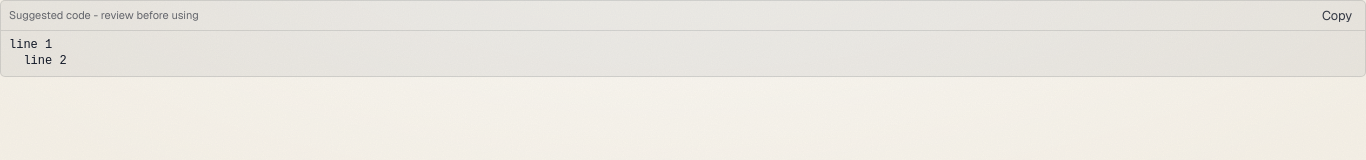
Test: AssistantMarkdown › copies the code exactly and says Copied
The width and height of the screenshot is (1366, 160).
Click the button with aria-label "Copy code" at [1337, 15], box [1317, 4, 1357, 27]
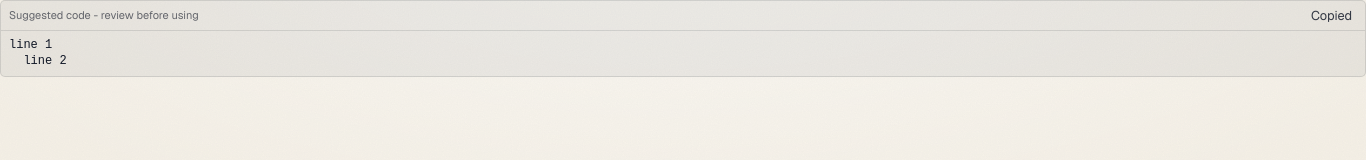
Now the button with aria-label "Copy code" reads "Copied", box [1306, 4, 1357, 27]
